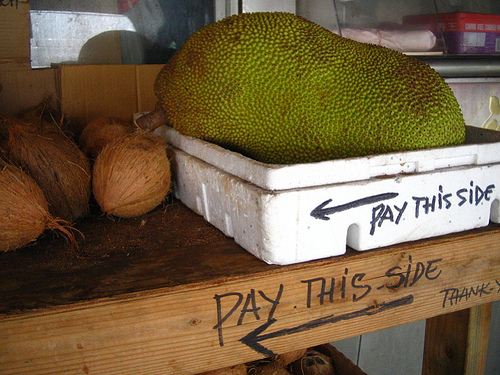jackfruit: (153, 7, 466, 166)
